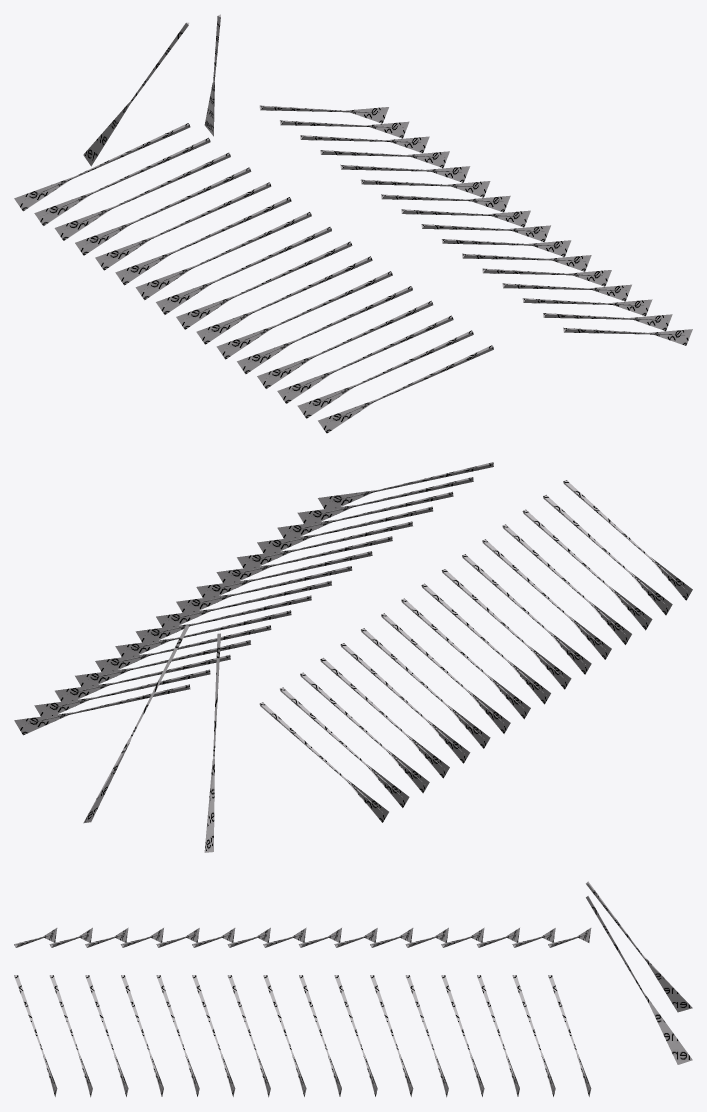
Rendered from hele_tric_oars.dae.
The picture shows the model from 3 angles, top to bottom: view 1: azimuth 30°, elevation 25°; view 2: azimuth 150°, elevation 25°; view 3: azimuth 270°, elevation 25°; orthographic projection. The views are drawn at different scales.
Visible parts, largest first — view 1: Oars; view 2: Oars; view 3: Oars.
Boxes of the visible parts, x1,y1,x2,y2 form: Oars: (14, 14, 692, 433); Oars: (14, 462, 692, 852); Oars: (14, 881, 692, 1097).
Bounding box in the file's own units: 29.12 × 51.88 × 12.65.
Materials: 1 (1 with a texture image).
